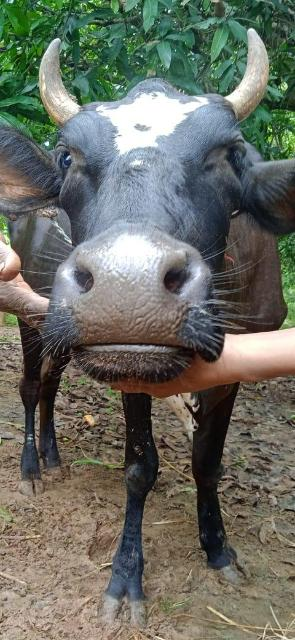Muzzle: (67, 249, 181, 343)
